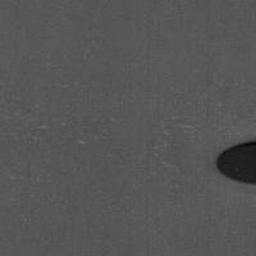Punching: (216, 141, 256, 184)
